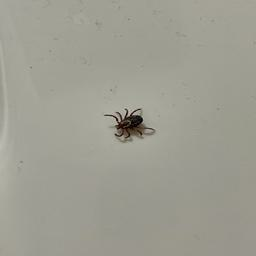Dermacentor variabilis: (102, 107, 156, 144)
